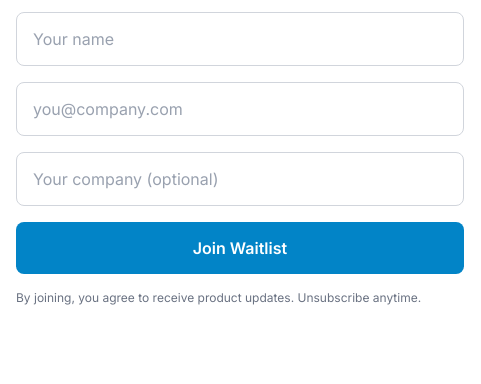
Test: WaitlistForm › should handle network errors gracefully
Type "test@example.com" into the field with placeholder "you@company.com". click: (240, 109)
box: [16, 82, 464, 136]
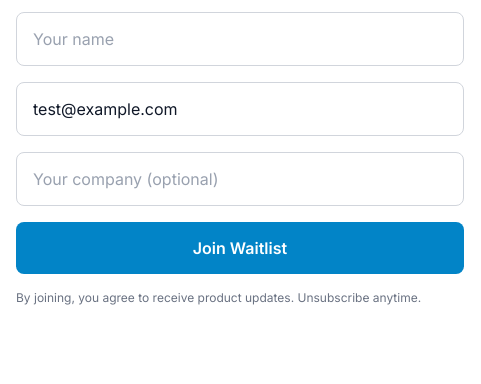
Click the button "Join Waitlist". click: (240, 248)
box: [16, 222, 464, 274]
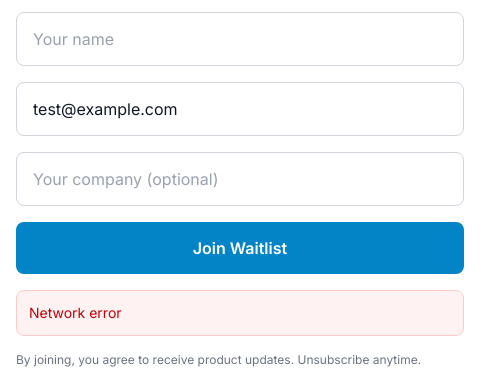
Expected: the text "Network error" is shown, [16, 290, 464, 336]
